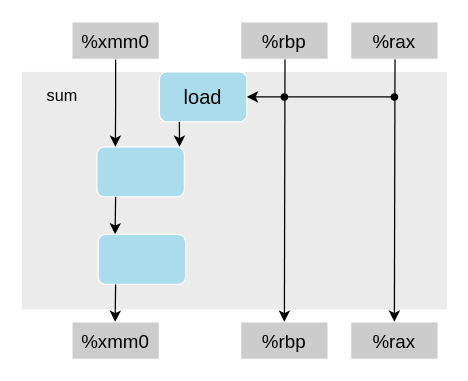
This 468x381 diagram has some shape labels left out. The shapes that lost their labels are listed below. From the top down, each one's box as (x1, y1, x2, y2) in pixels, then its label:
(96, 146, 184, 197): mul
(97, 233, 186, 284): add
